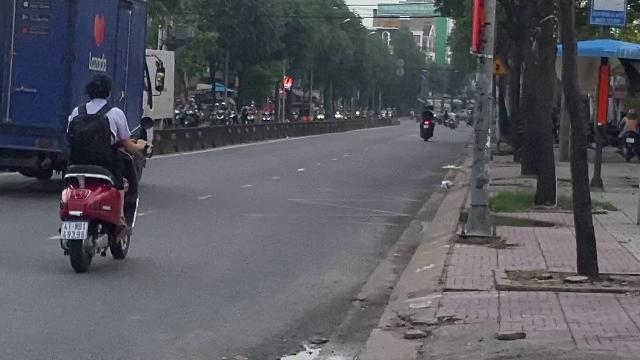licenseplate: (61, 221, 87, 238)
motorcyclist: (51, 71, 143, 273)
nohelmet: (82, 71, 114, 101)
